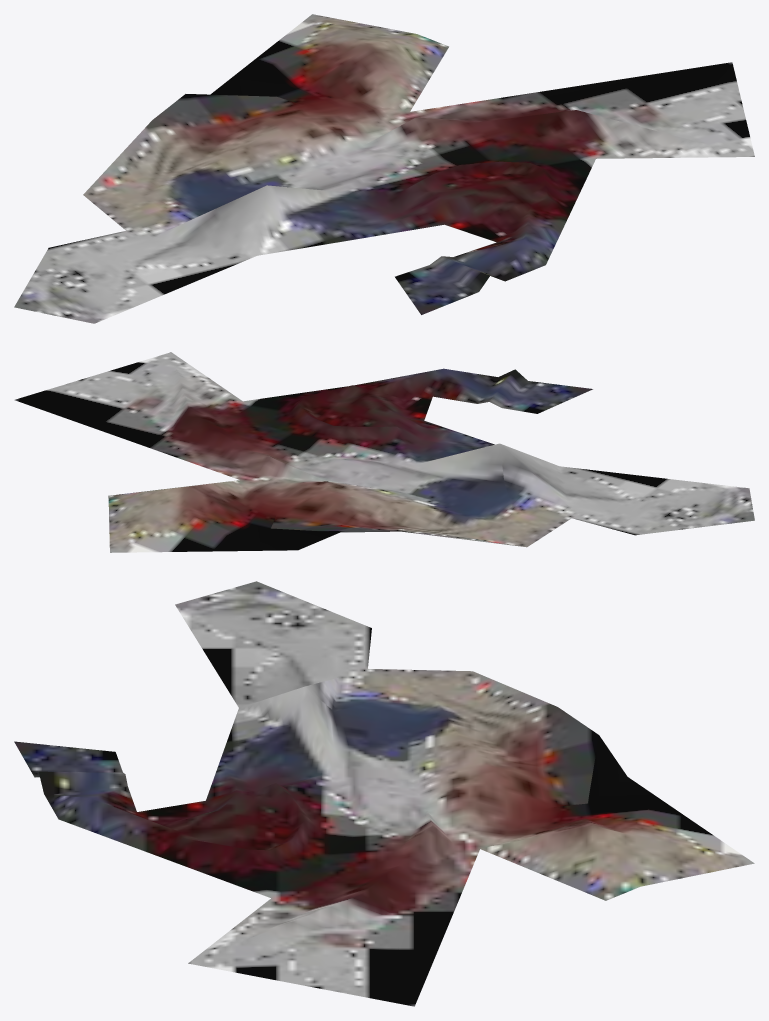
File: bloody_rags_d.glb
3 views of the same model, one above another, from view 1: azimuth 30°, elevation 25°; view 2: azimuth 150°, elevation 25°; view 3: azimuth 270°, elevation 25° (orthographic). The views are drawn at different scales.
Parts seen in each view (by area): view 1: bloody_rags_d; view 2: bloody_rags_d; view 3: bloody_rags_d.
Boxes of the visible parts, x1,y1,x2,y2 form: bloody_rags_d: (14,14,754,323); bloody_rags_d: (14,352,754,552); bloody_rags_d: (14,581,754,1006).
Bounding box in the file's own units: 1.14 × 0.0545 × 0.8388.
Materials: 1 (1 with a texture image).
